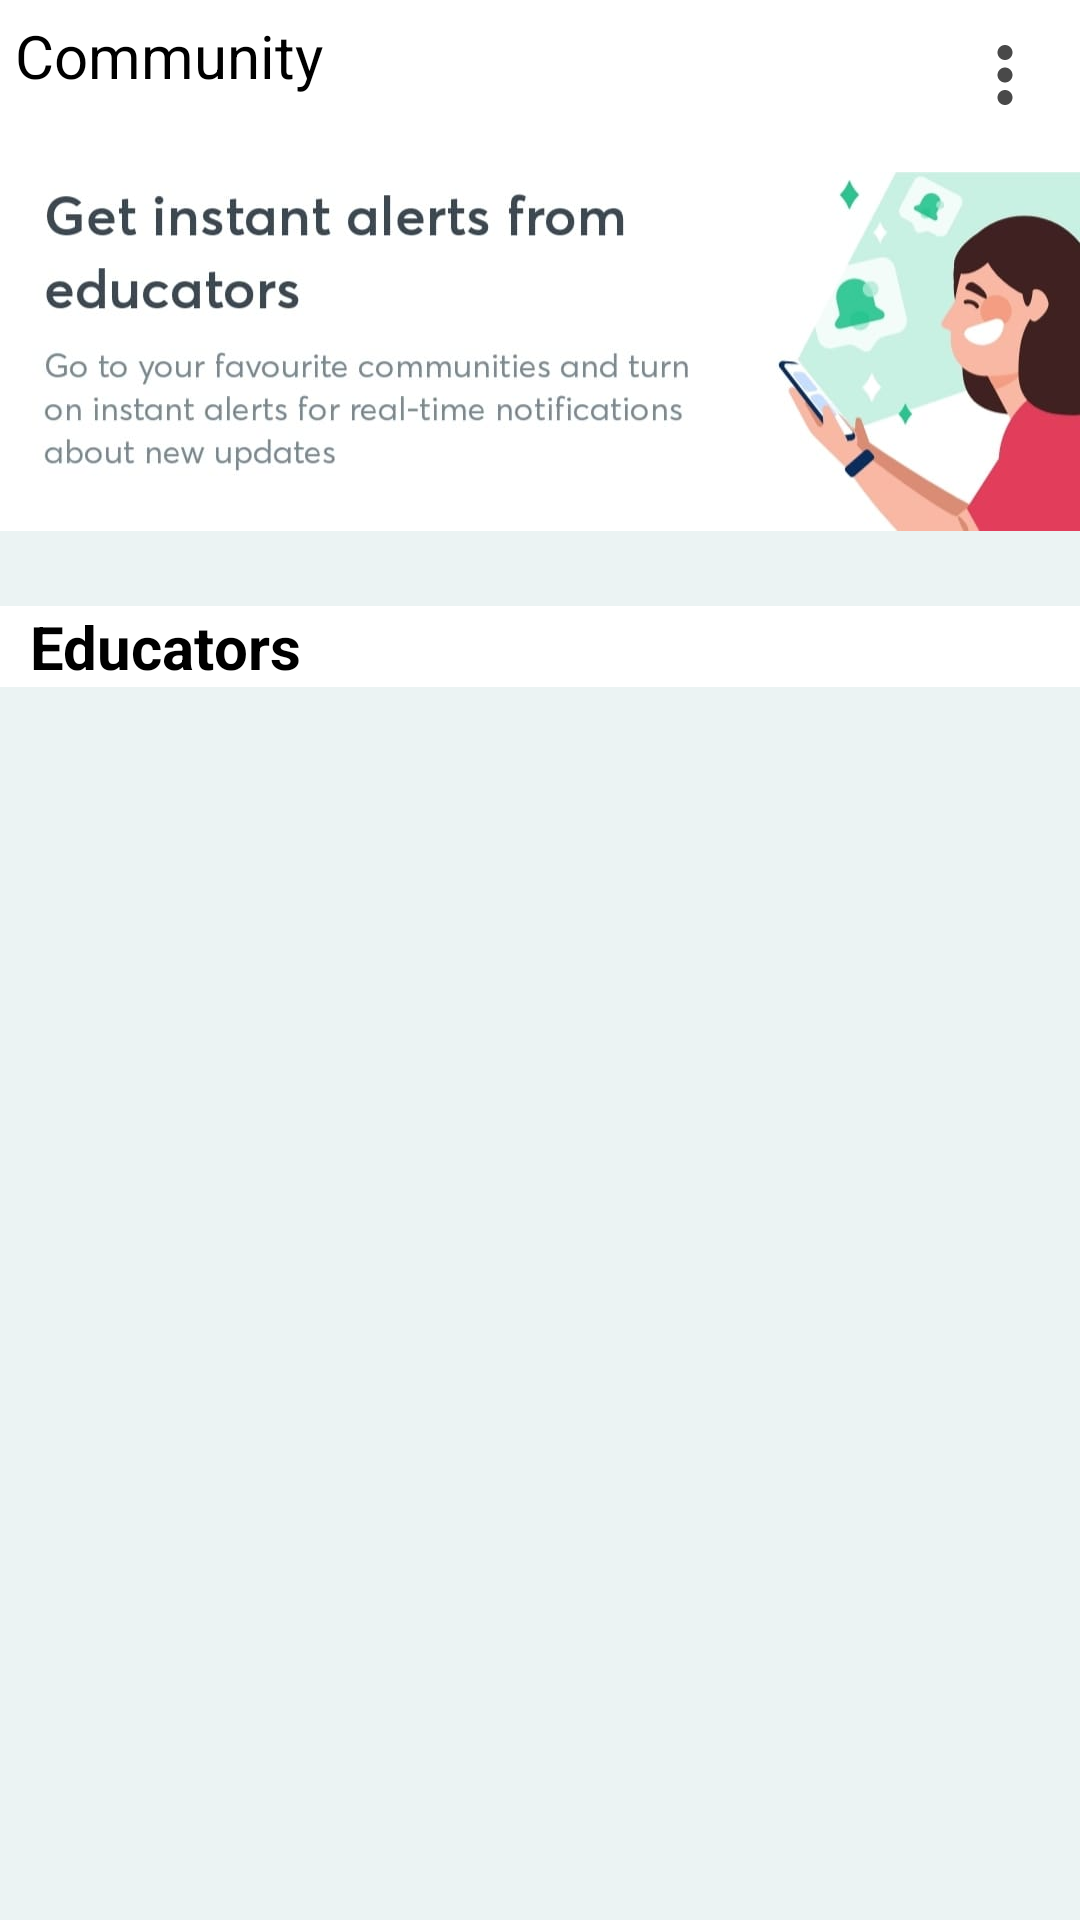

Named icons in this screenshot (1080 x 1920) and their centers, (x=x, y=y):
more: (x=1005, y=75)
